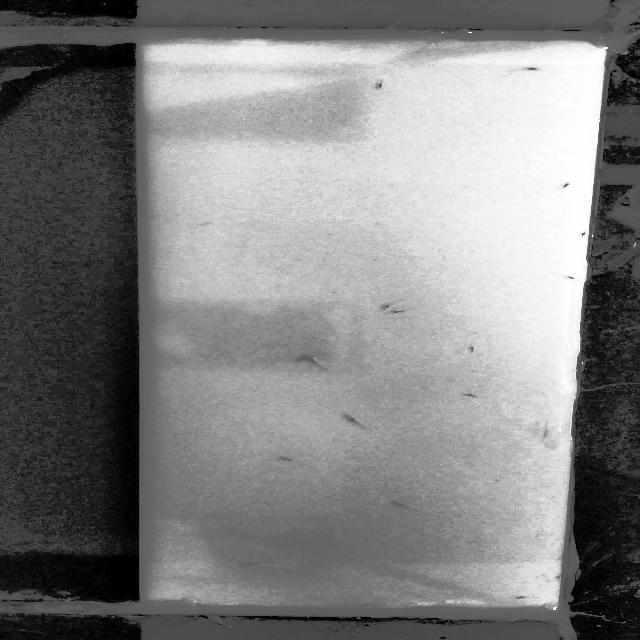shrimp: (302, 354, 335, 372), (374, 300, 404, 312), (521, 66, 551, 78), (272, 452, 302, 463), (389, 497, 414, 509), (339, 412, 364, 423), (557, 273, 584, 283), (375, 74, 394, 88), (239, 559, 268, 568), (293, 350, 320, 359), (387, 308, 416, 316), (558, 179, 576, 191), (573, 226, 588, 240), (459, 390, 479, 400), (465, 342, 481, 353), (360, 602, 383, 607), (516, 594, 528, 602)
